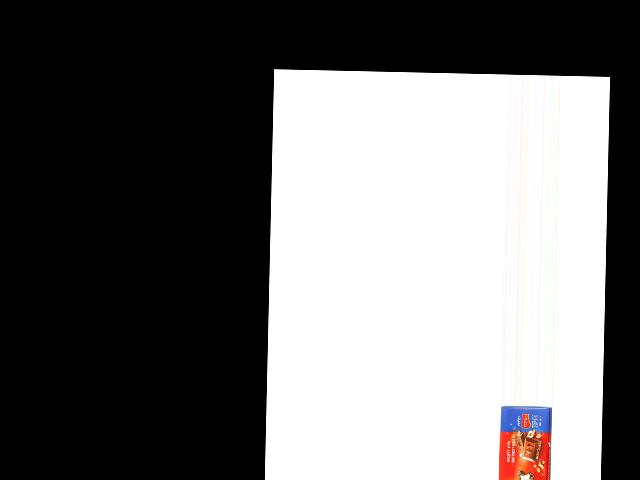chocolate: (498, 406, 551, 480)
